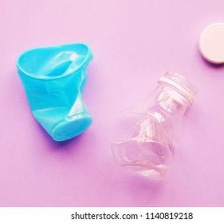bottle: (106, 64, 200, 189)
glass: (11, 35, 102, 147)
